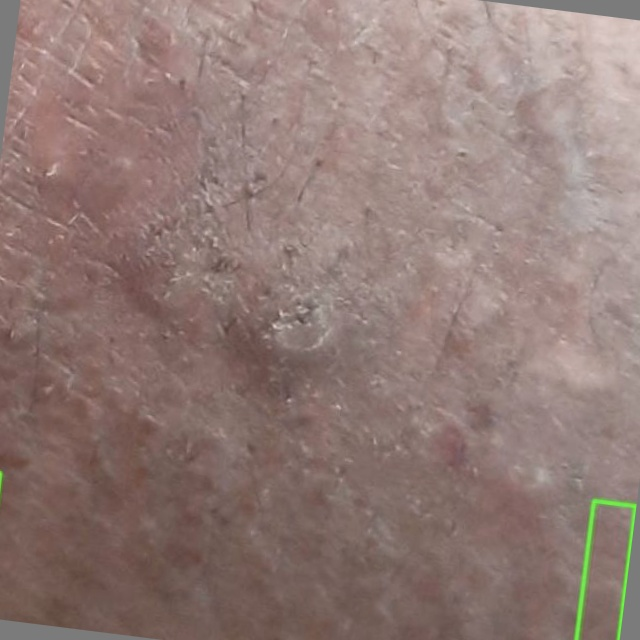Eczema: (576, 500, 635, 639)
